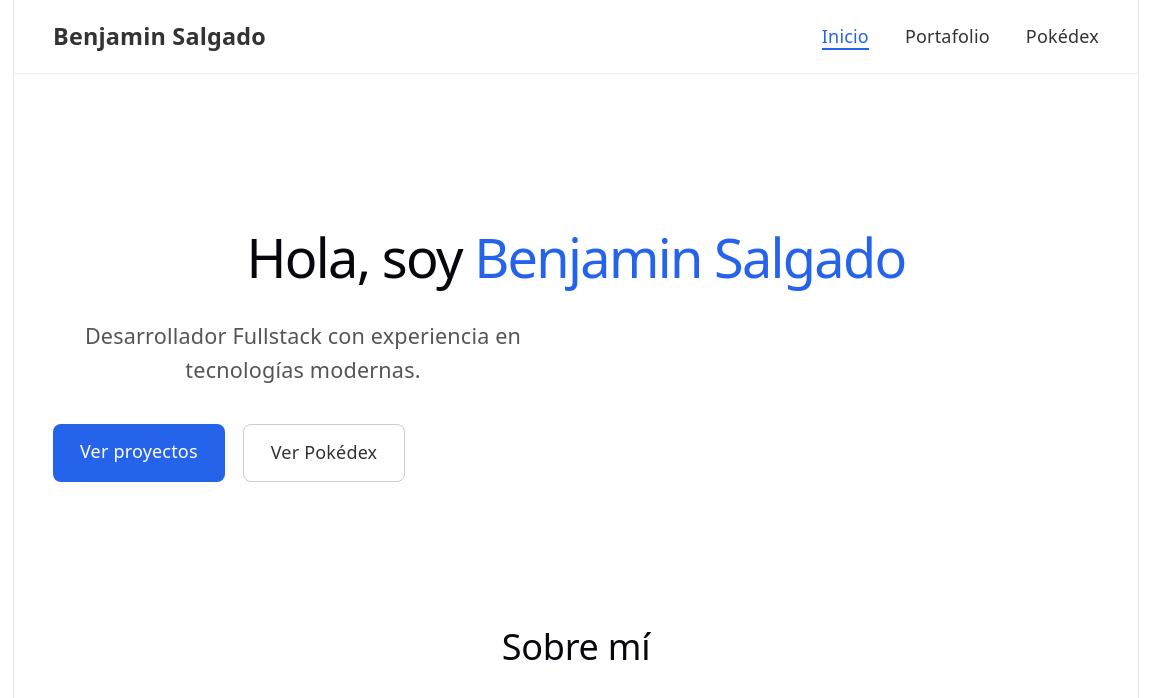
Test: App › muestra el home y navega al portafolio
Check: the heading "Hola, soy Benjamin Salgado" is shown, box [246,220,906,294]
Step 1. Click the link "Portafolio" → [947, 36], box [905,24,990,48]
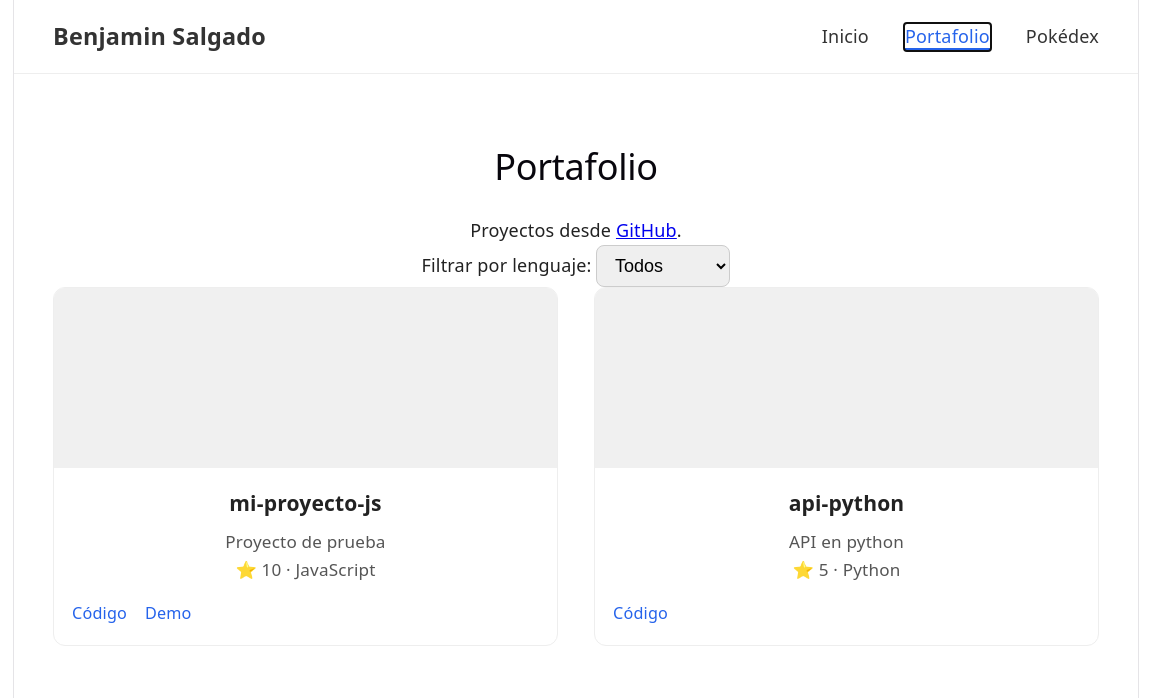
Check: the heading "mi-proyecto-js" is shown, box [229,488,382,517]
